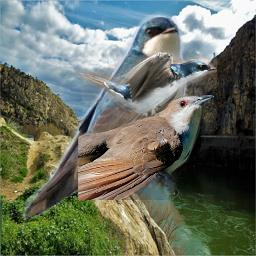Cuckoo: (78, 95, 214, 200)
Swallow: (16, 8, 194, 222), (75, 50, 217, 126)
